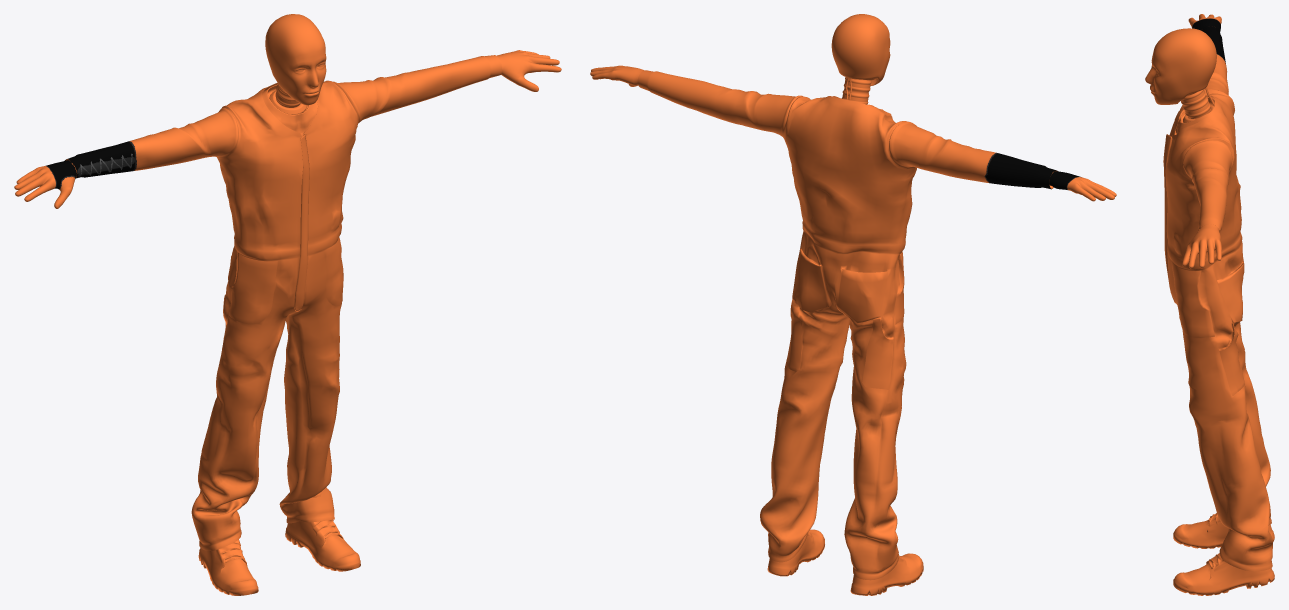
The model's file is wrist.fbx.
The picture shows the model from 3 angles, left to right: view 1: azimuth 30°, elevation 25°; view 2: azimuth 150°, elevation 25°; view 3: azimuth 270°, elevation 25°; orthographic projection. The views are drawn at different scales.
Visible parts, largest first — view 1: Ch32; view 2: Ch32; view 3: Ch32.
Boxes of the visible parts, left/top/right/bottom form: Ch32: left=14, top=14, right=561, bottom=595; Ch32: left=590, top=14, right=1116, bottom=595; Ch32: left=1145, top=14, right=1274, bottom=595.
Bounding box in the file's own units: 17823 × 17626 × 3881.
